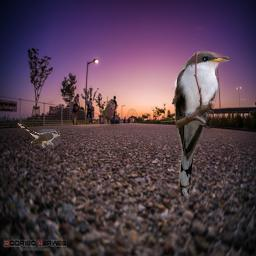Cuckoo: (173, 50, 229, 196), (17, 121, 61, 149)
